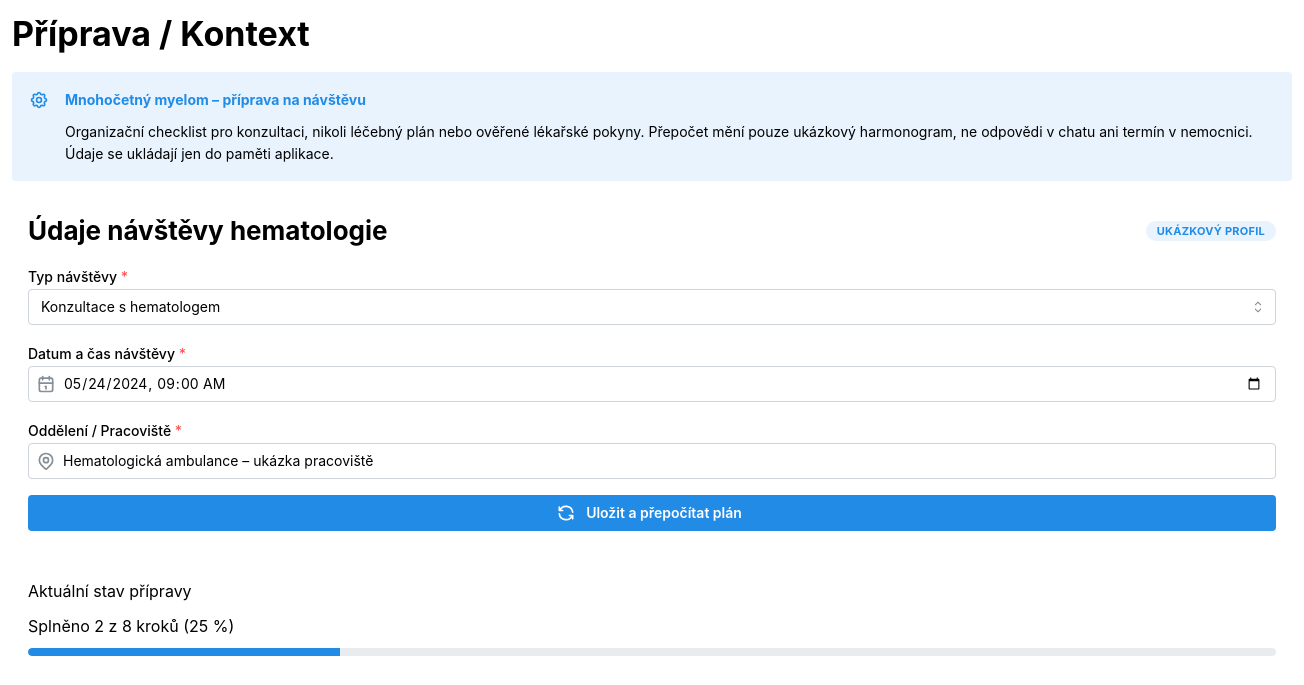
Test: preparation page › preserves completion for location-only changes
The image size is (1304, 685).
Replace the text in the field labelled "Oddělení / Pracoviště *" with "Budova C" at (652, 461), box [28,443,1276,479]
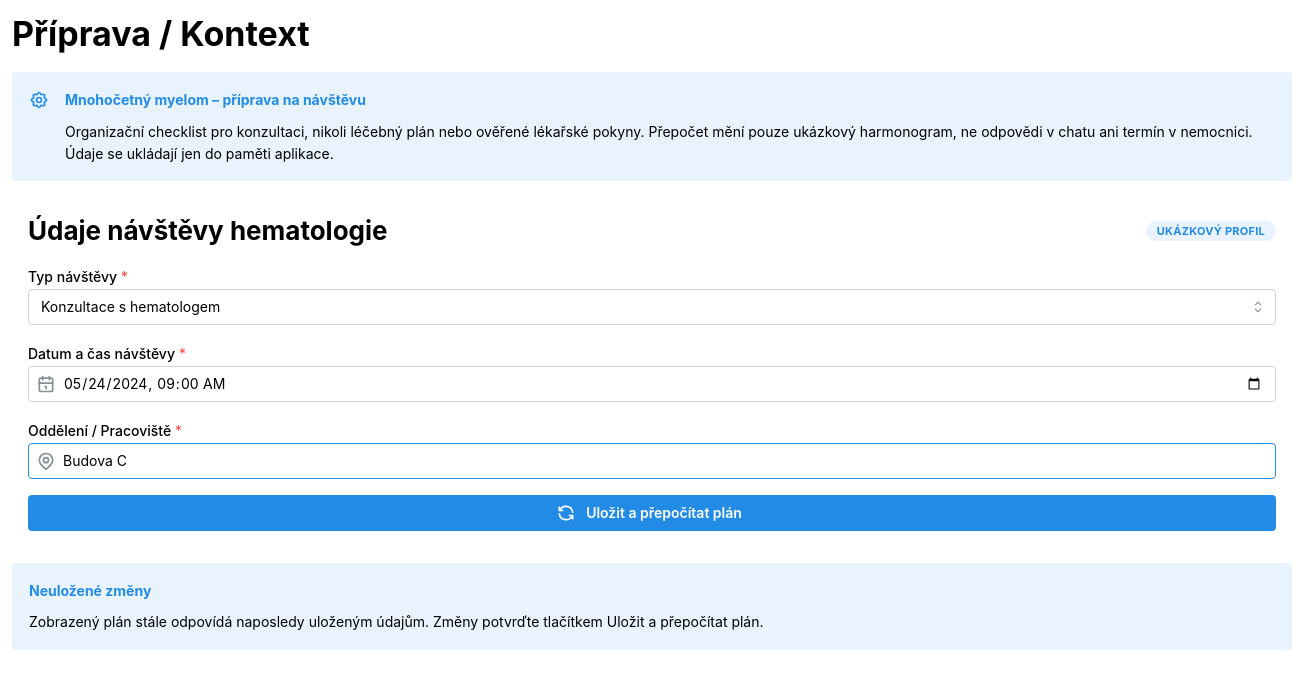
Click the button with aria-label "Uložit zadané údaje a přepočítat plán".
click(652, 513)  # box [28,495,1276,531]
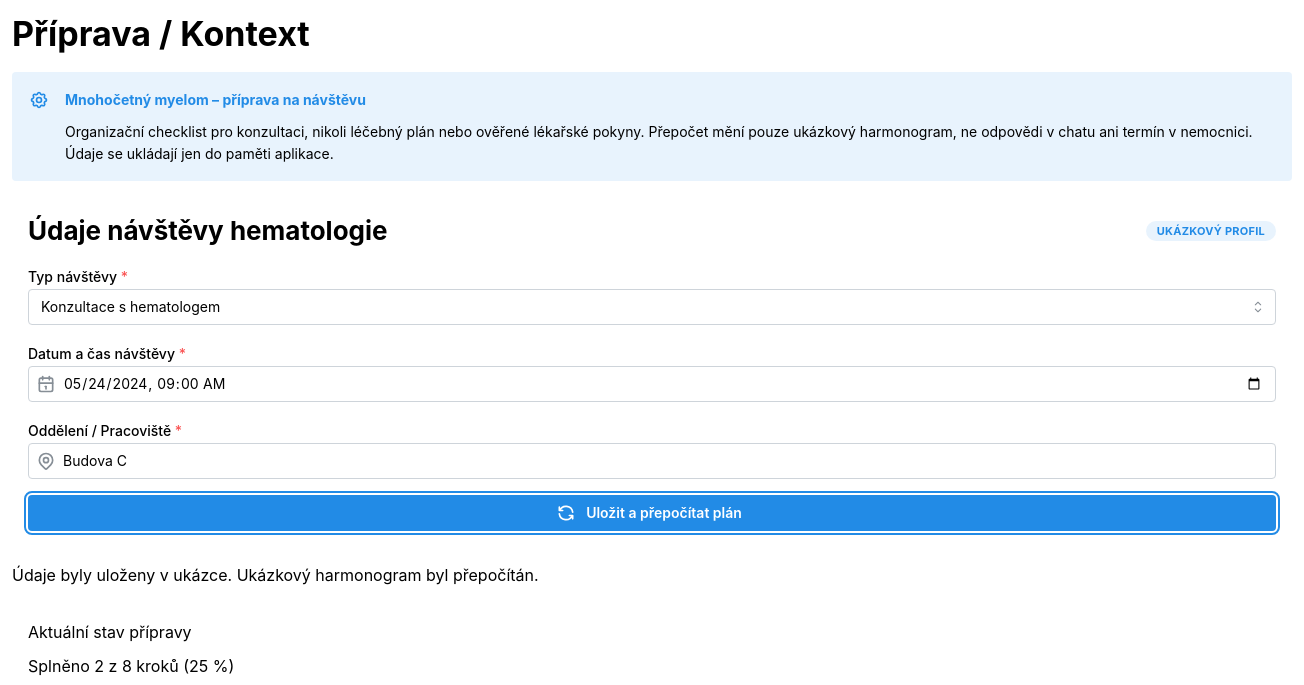
Expected: the text "Splněno 2 z 8 kroků (25 %)" is shown, [28,656,234,676]
Expected: the text "Údaje byly uloženy v ukázce. Ukázkový harmonogram byl přepočítán." is shown, [12,565,539,585]
